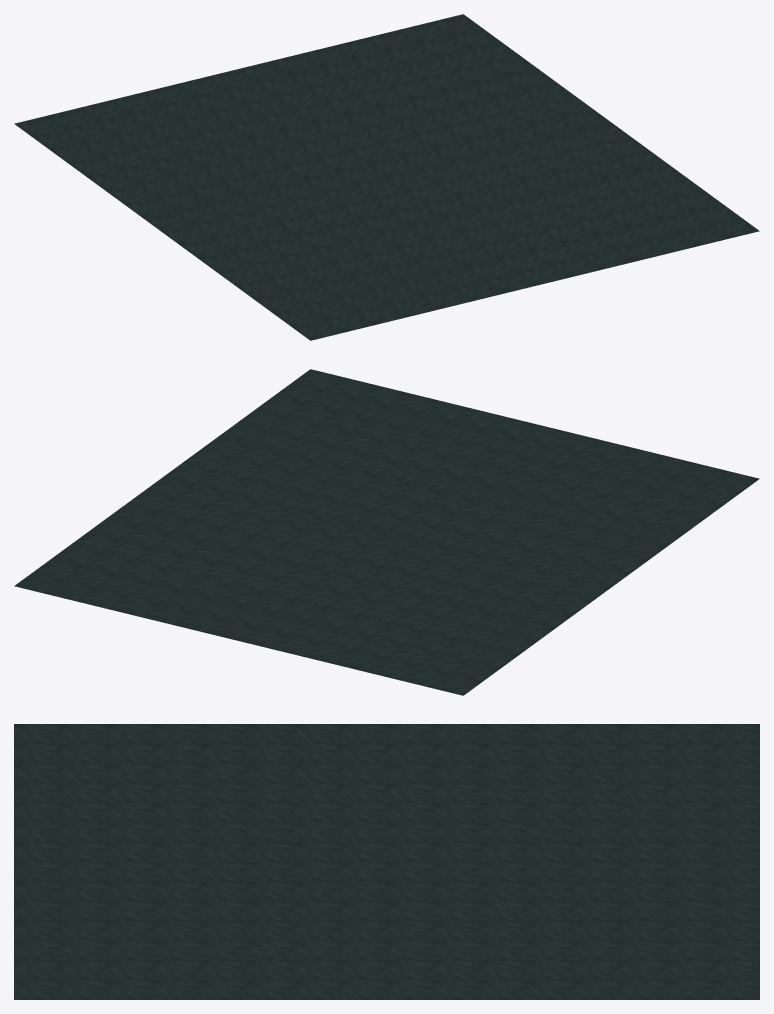
File: canal_water.glb
3 views of the same model, one above another, from view 1: azimuth 30°, elevation 25°; view 2: azimuth 150°, elevation 25°; view 3: azimuth 270°, elevation 25° (orthographic). The views are drawn at different scales.
Parts seen in each view (by area): view 1: canal_water0; view 2: canal_water0; view 3: canal_water0.
Part boxes in pixels (x1=…): canal_water0: x1=14, y1=14, x2=759, y2=340; canal_water0: x1=14, y1=369, x2=759, y2=695; canal_water0: x1=14, y1=724, x2=759, y2=999.
Bounding box in the file's own units: 448 × 0 × 512.
1 material, 1 textured.
